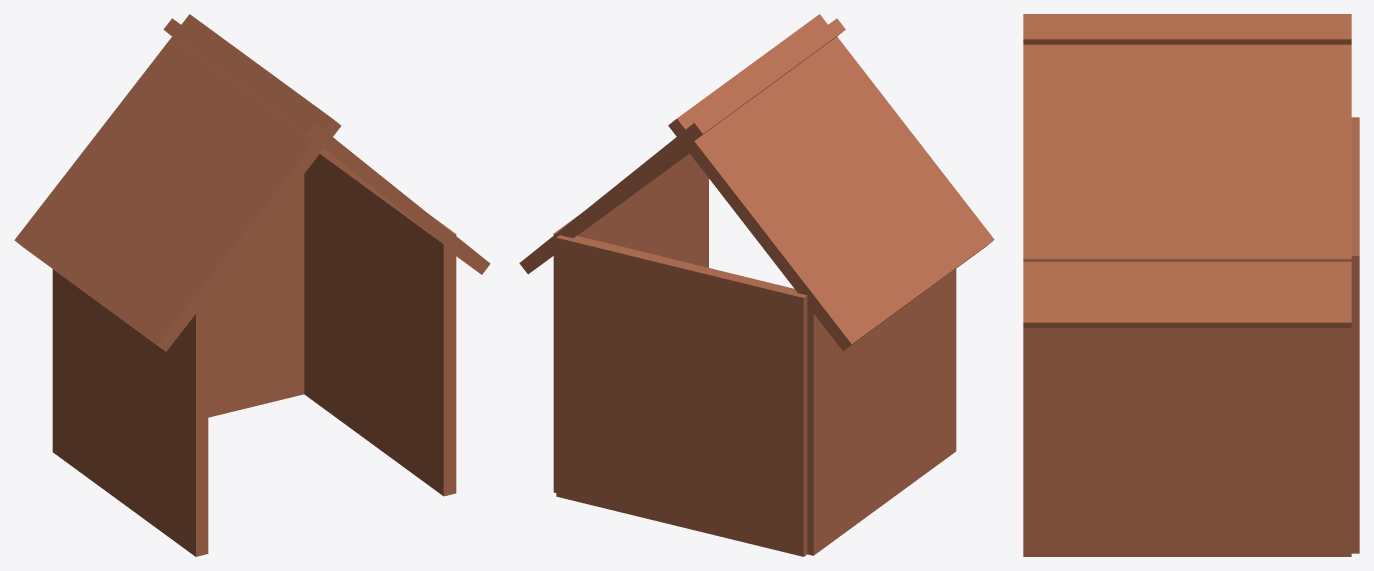
The model's file is object_shelter.glb.
The picture shows the model from 3 angles, left to right: view 1: azimuth 30°, elevation 25°; view 2: azimuth 150°, elevation 25°; view 3: azimuth 270°, elevation 25°; orthographic projection. The views are drawn at different scales.
Visible parts, largest first — view 1: shelter; view 2: shelter; view 3: shelter.
Boxes of the visible parts, x1,y1,x2,y2 form: shelter: (14, 14, 490, 556); shelter: (519, 14, 994, 556); shelter: (1023, 14, 1359, 556).
Bounding box in the file's own units: 2.69 × 3.12 × 2.05.
